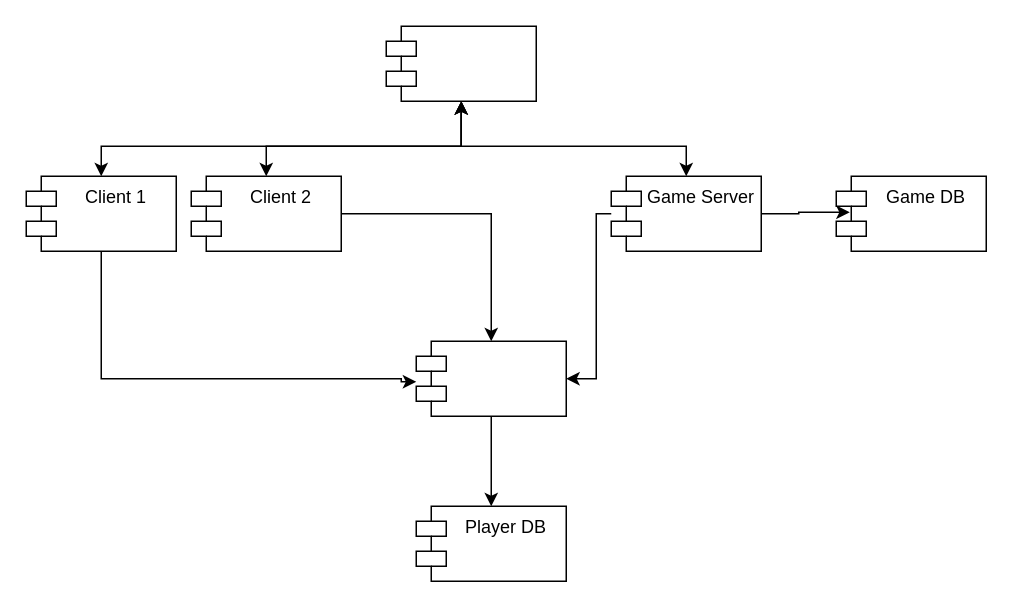
Image size: 1013x608. Some labels were removed from this diagram. The shapes that lost their labels are listed below. From the top down, each one's centre as x and y in pixels, then its label:
At (460,63): "Broker".
At (490,378): "Login Server".
